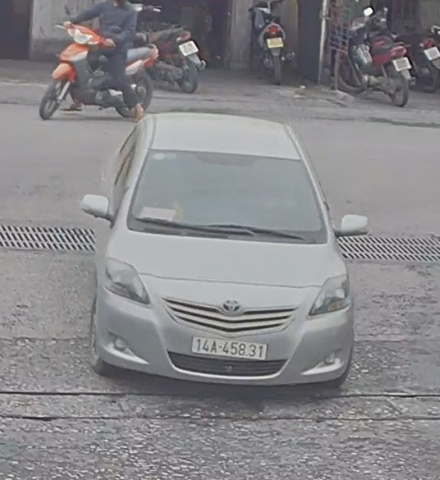vehicle plate: (188, 331, 276, 362)
